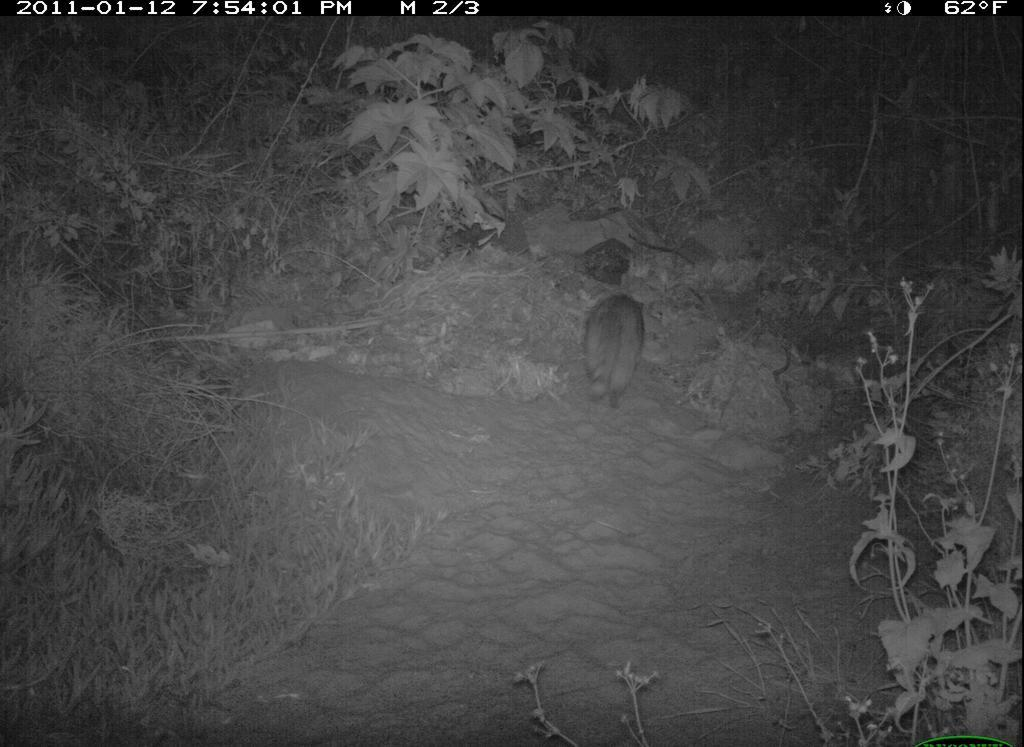raccoon: (573, 282, 661, 423)
